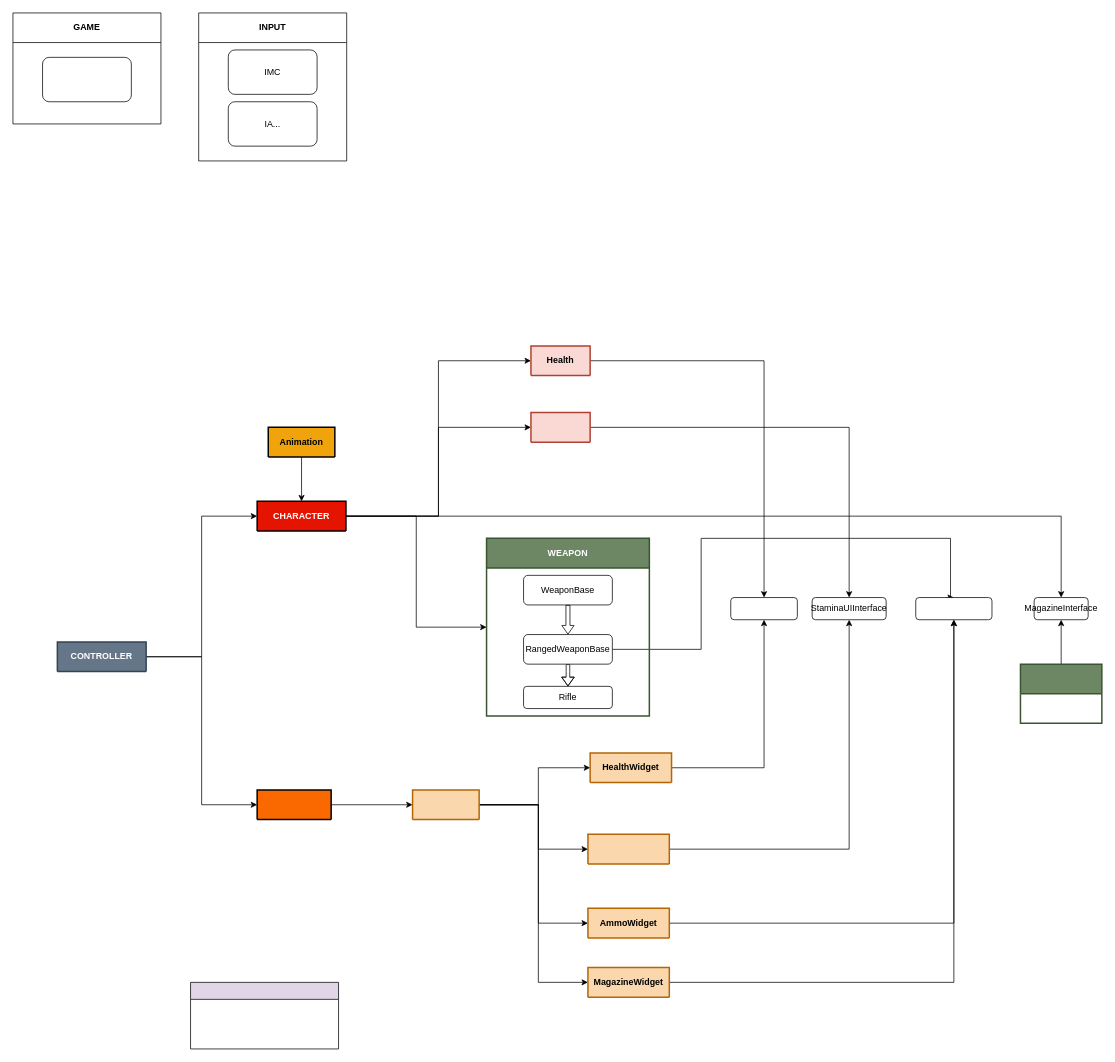
Some shapes in this 1115 by 1062 pixel diagram are drawn without their labels. The shapes that lost their labels are listed below. From the top down, each one's centre as x and y in pixels, then its label:
[86,79]: GameMode
[560,427]: Stamina
[763,608]: HealthUIInterface
[953,608]: AmmoUIInterface
[1060,693]: Magazine
[294,804]: UIManager
[445,804]: MainHUD
[628,848]: StaminaWidget
[264,1015]: HealthProviderInterface
